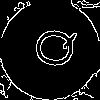Q: (25, 25, 78, 70)
